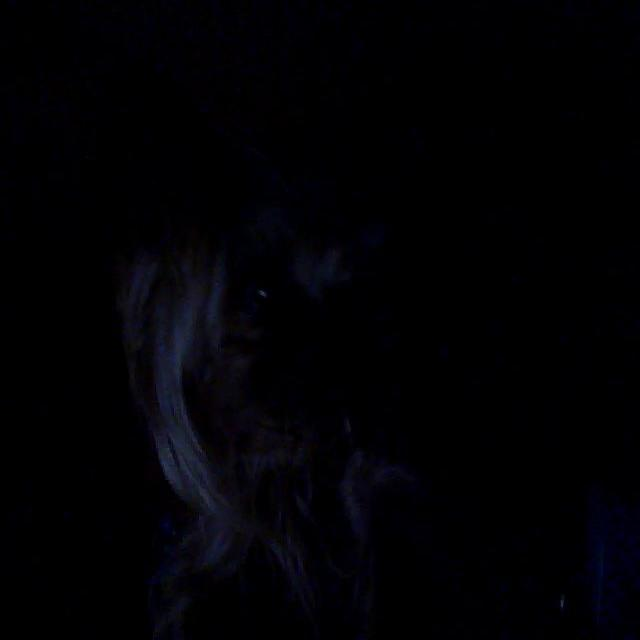dog: (104, 191, 434, 638)
